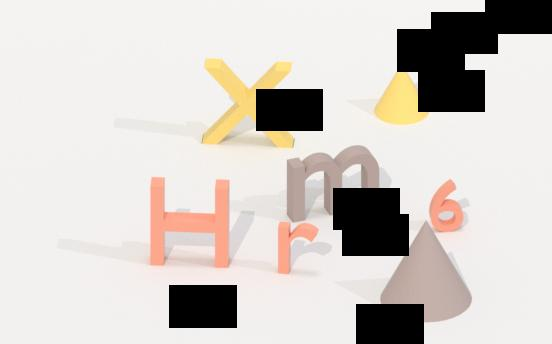6: (427, 176, 466, 235)
H-hoa: (148, 173, 232, 271)
R: (276, 219, 320, 277)
m: (283, 142, 383, 224)
non: (378, 215, 475, 327), (373, 61, 431, 127)
x: (200, 52, 299, 153)
